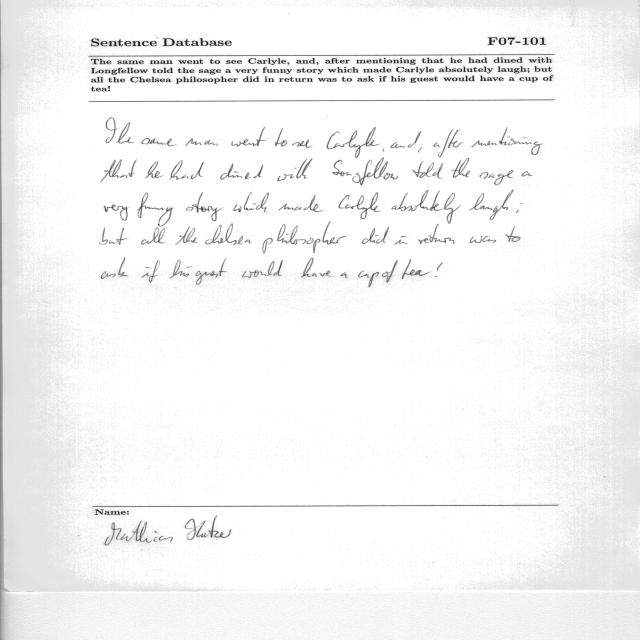word: (262, 222, 347, 254), (391, 190, 461, 224), (472, 127, 543, 155), (332, 158, 398, 185), (327, 127, 380, 158), (469, 190, 514, 220), (138, 193, 174, 227), (338, 192, 381, 219), (186, 192, 222, 221), (205, 224, 251, 246), (434, 130, 464, 158), (196, 258, 227, 285), (101, 160, 137, 183), (277, 159, 313, 182), (278, 195, 324, 212), (418, 224, 455, 244), (242, 260, 283, 278), (106, 118, 134, 144), (233, 192, 269, 212), (231, 127, 266, 147), (169, 160, 204, 180), (220, 164, 263, 180), (101, 257, 128, 279), (301, 258, 331, 277), (402, 259, 429, 279), (390, 131, 421, 148), (413, 161, 443, 178), (479, 170, 513, 185), (100, 227, 128, 245), (362, 227, 389, 244), (141, 226, 165, 245), (175, 226, 198, 245), (142, 261, 160, 283), (170, 260, 192, 278), (104, 205, 128, 221), (451, 158, 470, 178), (382, 261, 398, 283), (358, 271, 379, 287), (141, 138, 176, 146), (145, 162, 162, 178), (186, 138, 219, 146), (505, 226, 521, 242), (275, 129, 287, 147), (470, 236, 496, 243), (292, 139, 312, 148), (435, 262, 443, 277), (395, 236, 408, 245), (516, 203, 522, 213), (522, 172, 533, 177), (340, 273, 348, 278), (418, 148, 422, 153), (383, 149, 384, 152)
